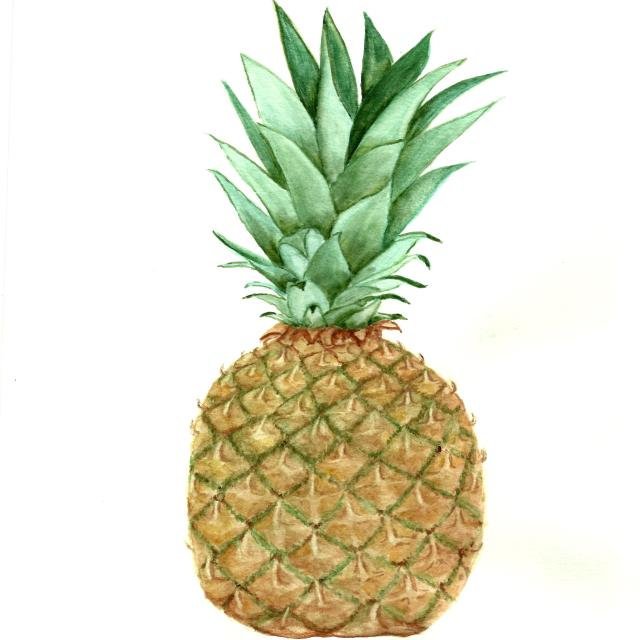pineapple: (162, 232, 503, 636)
